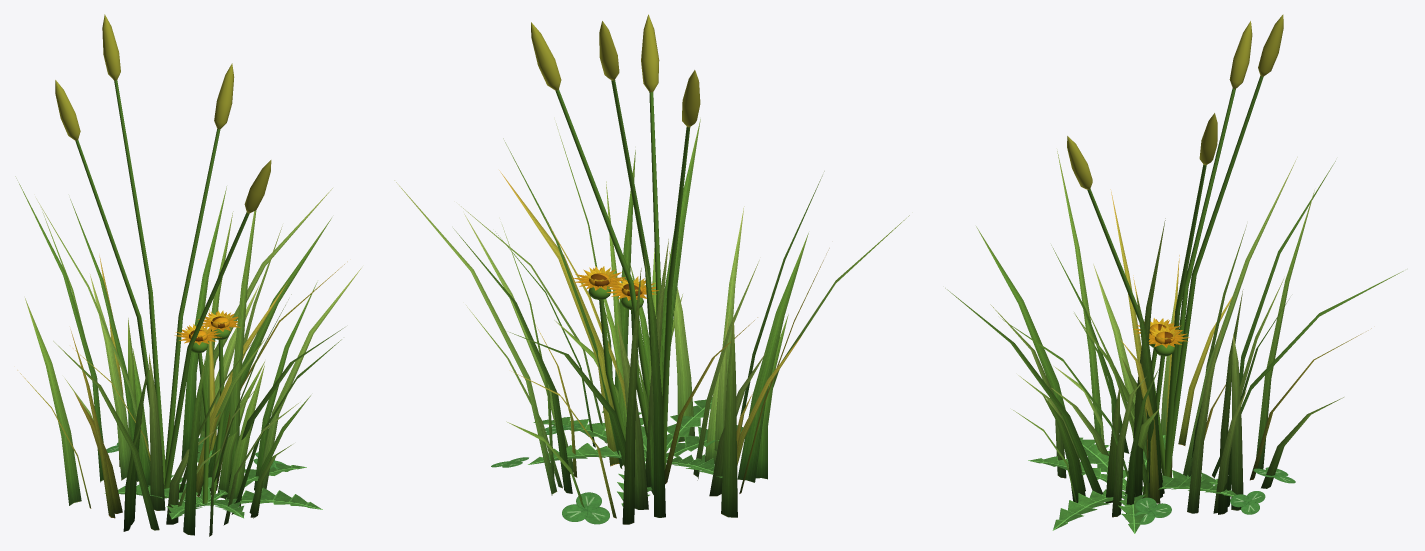
File: hierbajo.gltf
3 views of the same model, side by side, from view 1: azimuth 30°, elevation 25°; view 2: azimuth 150°, elevation 25°; view 3: azimuth 270°, elevation 25° (orthographic). The views are drawn at different scales.
Visible parts, largest first — view 1: hierbajo; view 2: hierbajo; view 3: hierbajo.
Part boxes in pixels (<box>): hierbajo: <box>15,14,361,536</box>; hierbajo: <box>394,14,909,524</box>; hierbajo: <box>945,14,1403,533</box>.
Bounding box in the file's own units: 1.27 × 1.48 × 1.33.
5 materials, 5 textured.
